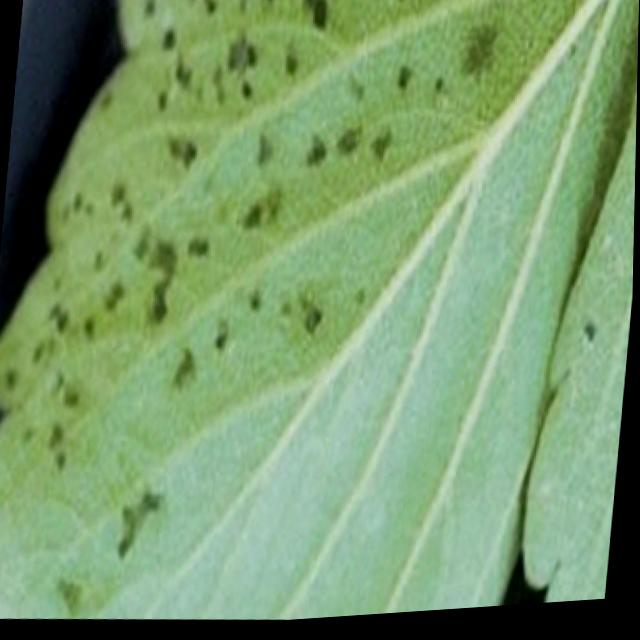Angular Leafspot: (0, 0, 639, 624), (522, 109, 638, 611)
